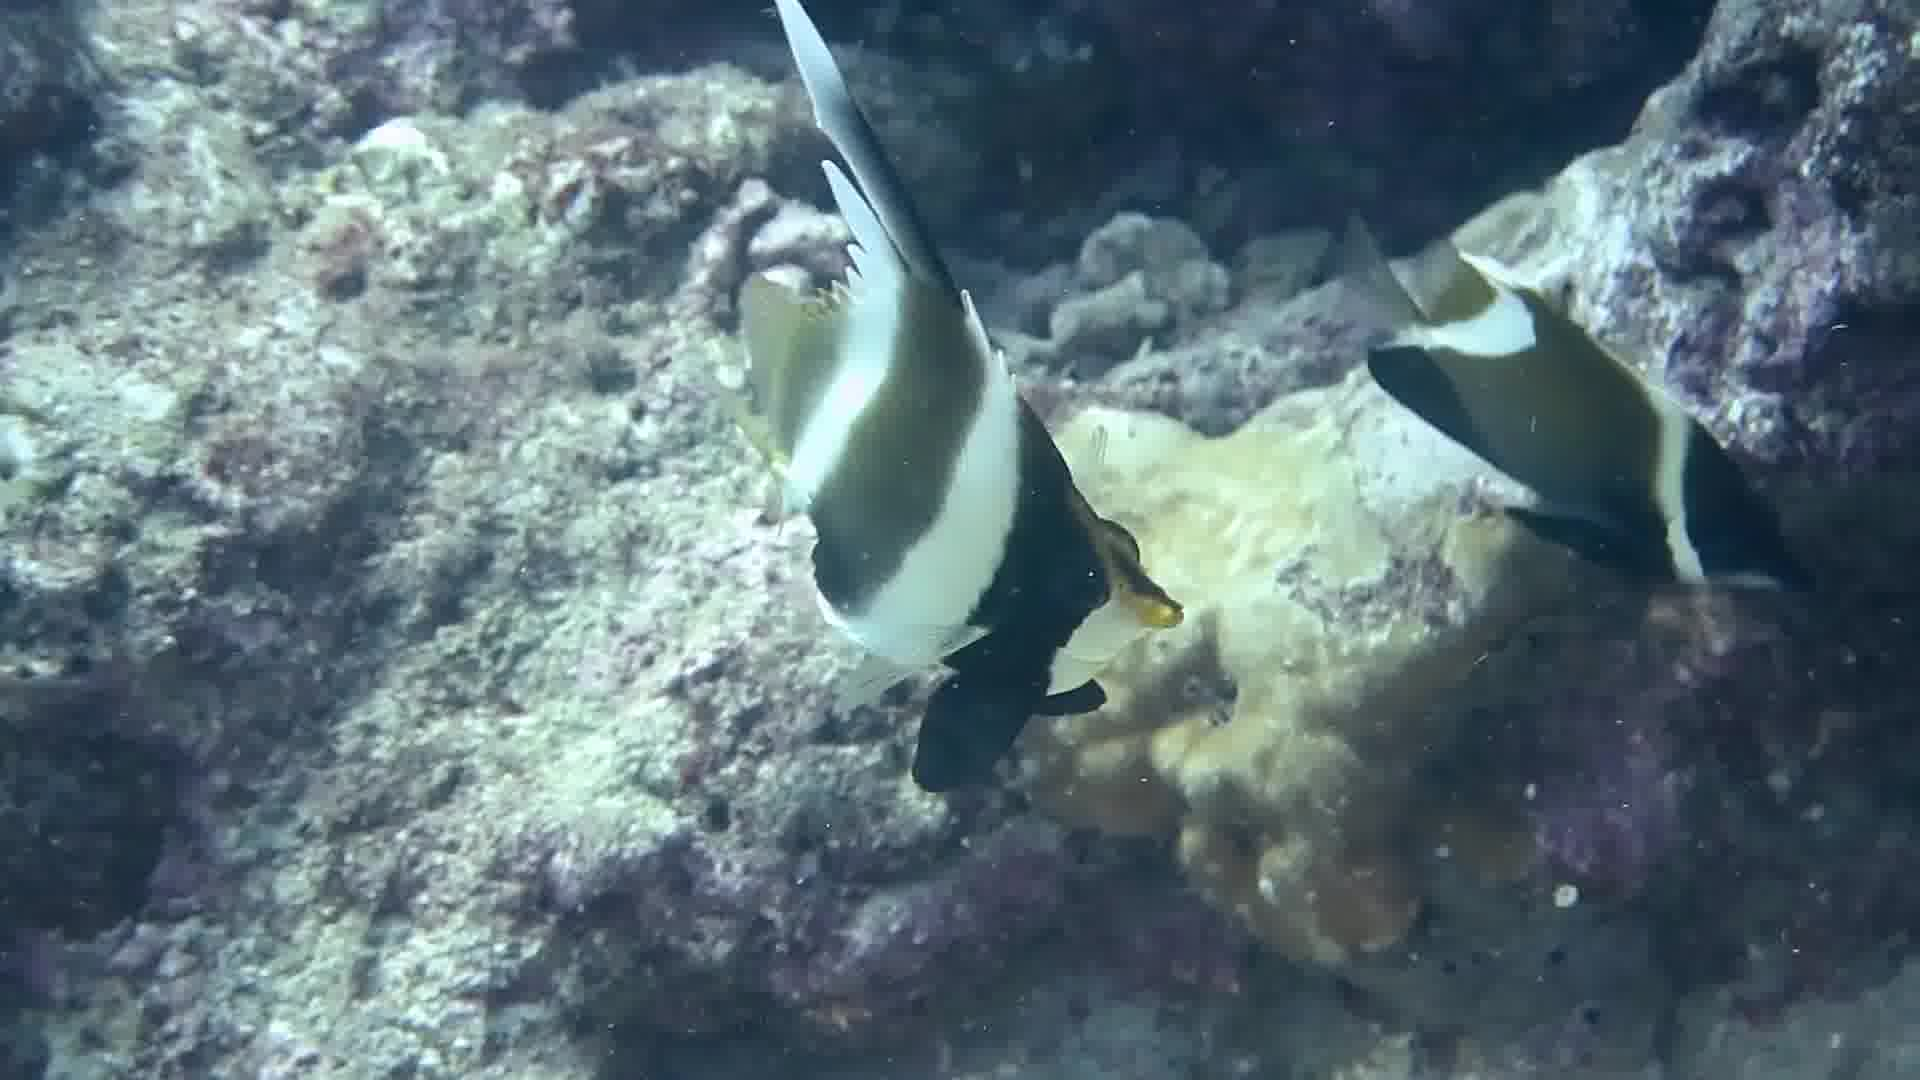Heniochus chrysostomus: (678, 1, 1201, 851), (1336, 94, 1825, 724)
